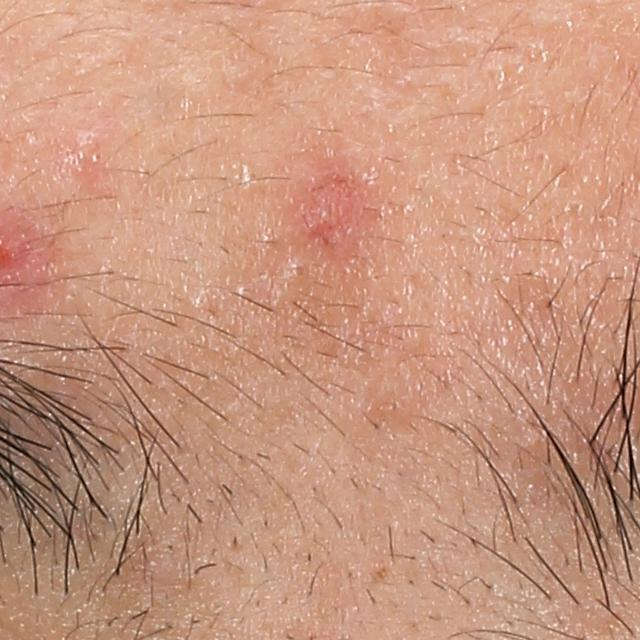papule: (301, 168, 365, 244)
